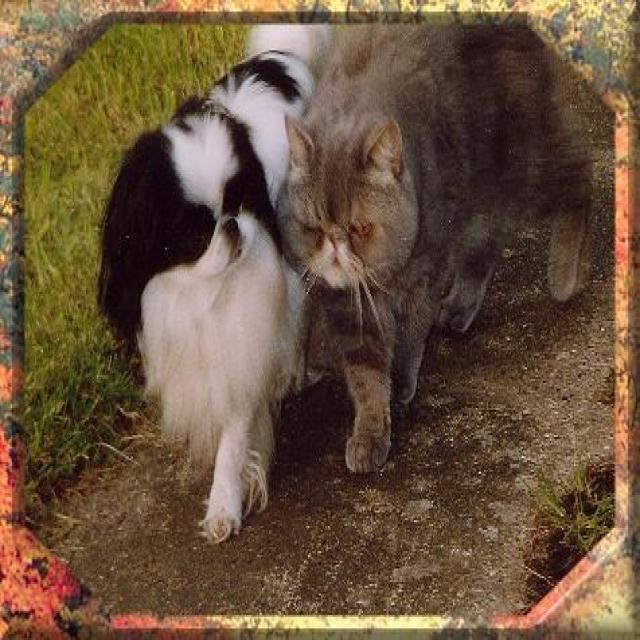husky: (99, 21, 339, 547)
